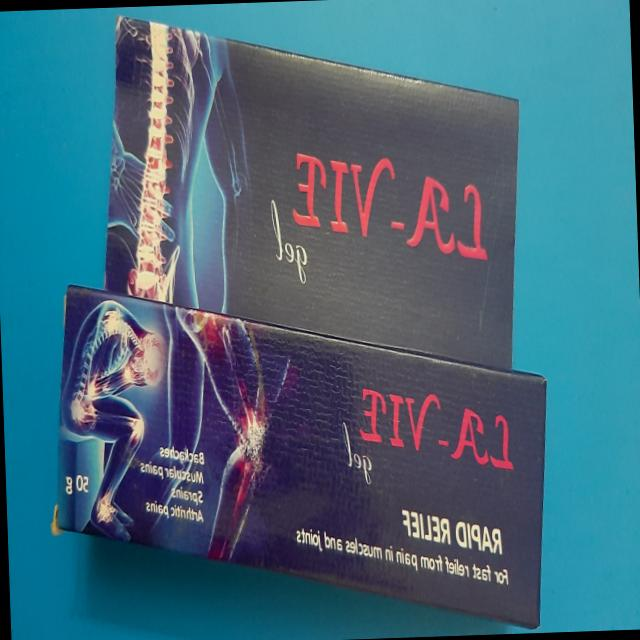medicine_packaging: (9, 290, 569, 640), (78, 4, 530, 292)
